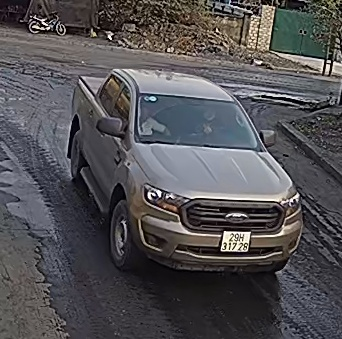vehicle plate: (218, 226, 255, 255)
